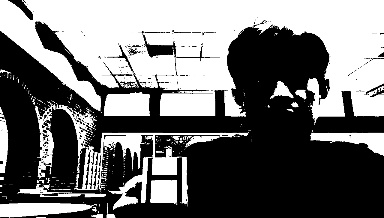H: (142, 155, 186, 203)
